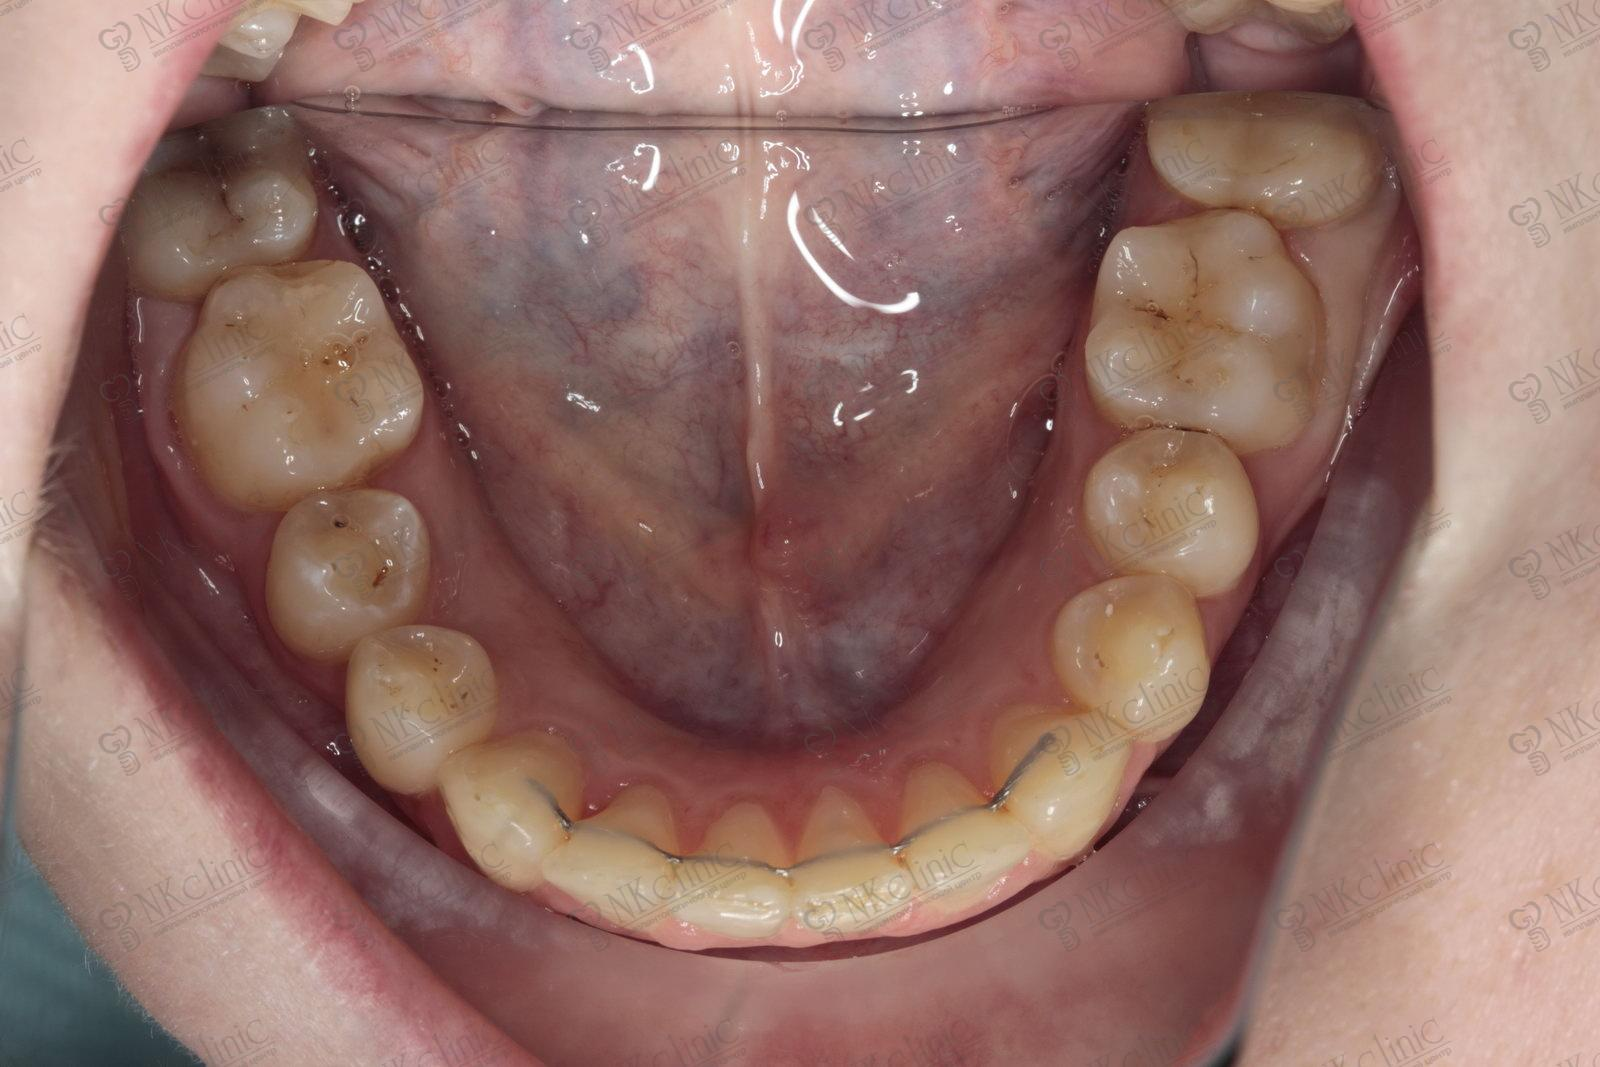LL1BC_healthy: (1042, 576, 1212, 734)
LL1M_decay: (1088, 217, 1345, 436)
LL2BC_healthy: (1081, 424, 1271, 599)
LL2M_decay: (1140, 92, 1394, 227)
LLCI_decay: (787, 799, 914, 937)
LLC_decay: (973, 700, 1136, 850)
LLLI_decay: (883, 763, 1033, 915)
LR1BC_decay: (348, 620, 507, 794)
LR1M_decay: (165, 258, 426, 503)
LR2BC_decay: (264, 486, 444, 659)
LR2M_decay: (112, 87, 315, 294)
LRCI_healthy: (670, 794, 793, 937)
LRC_healthy: (446, 735, 600, 881)
LRLI_healthy: (543, 776, 690, 928)
